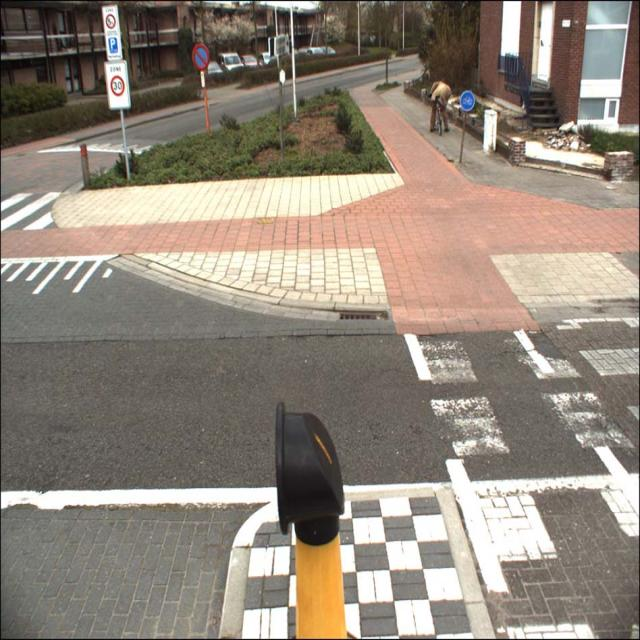parkyasak: (191, 43, 209, 70)
